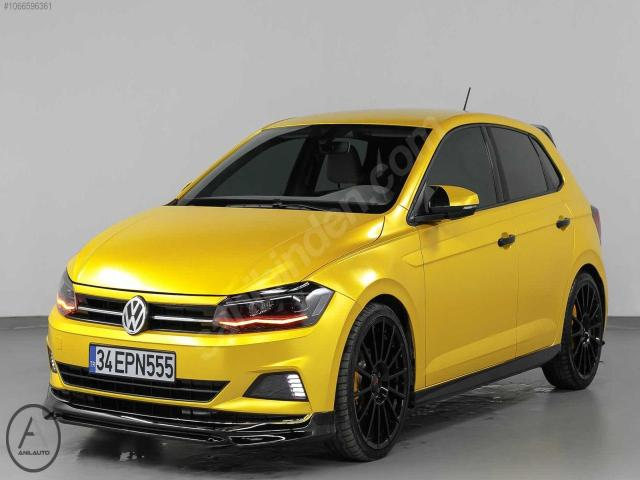plaka: (89, 345, 175, 382)
